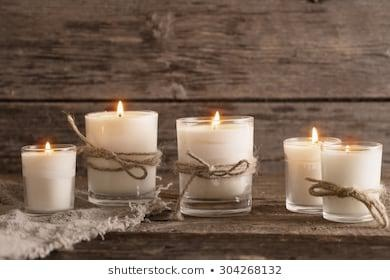fire: (209, 108, 221, 129), (113, 97, 125, 117), (307, 124, 319, 143), (41, 139, 55, 153)
